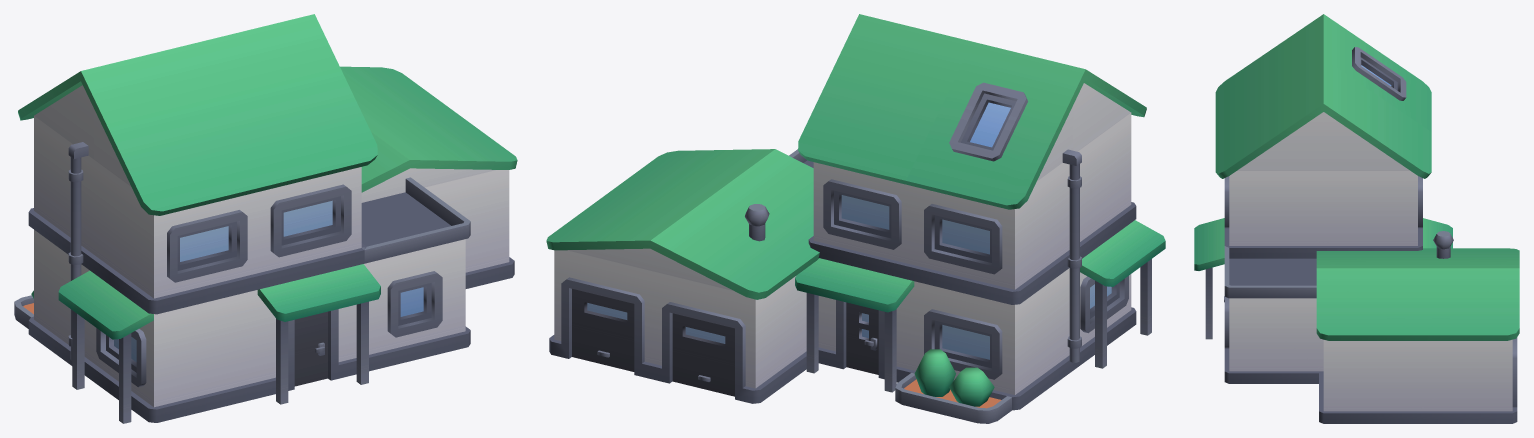
Rendered from house-n.glb.
3 renders of one model, left to right at view 1: azimuth 30°, elevation 25°; view 2: azimuth 150°, elevation 25°; view 3: azimuth 270°, elevation 25°, orthographic. The views are drawn at different scales.
Visible parts, largest first — view 1: building-type-n; view 2: building-type-n; view 3: building-type-n.
Part boxes in pixels (x1,y1,x2,y2): building-type-n: [14, 14, 517, 423]; building-type-n: [546, 14, 1165, 423]; building-type-n: [1194, 14, 1519, 423].
Bounding box in the file's own units: 1.78 × 1.14 × 1.38.
Materials: 1 (1 with a texture image).
